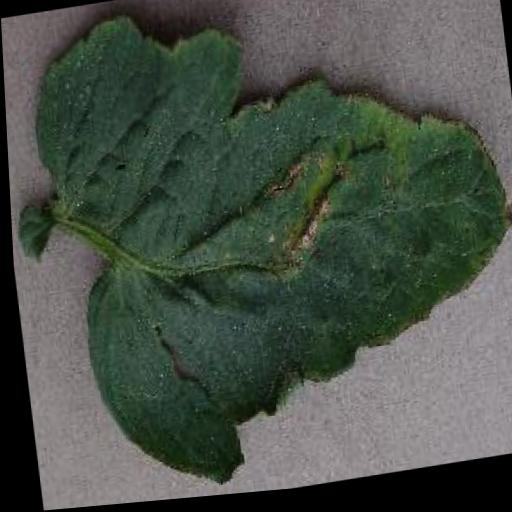Bacterial Spot: (14, 0, 512, 511)
